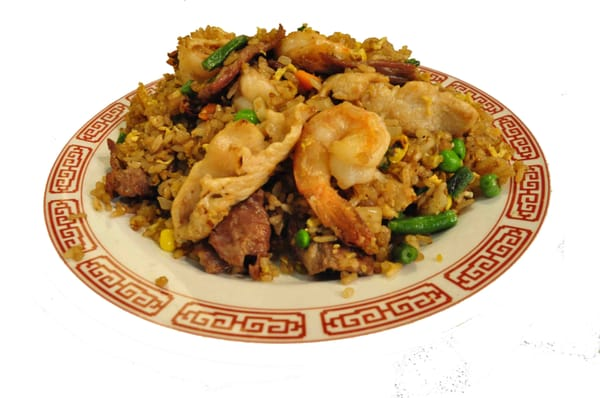curry: (8, 0, 590, 393)
